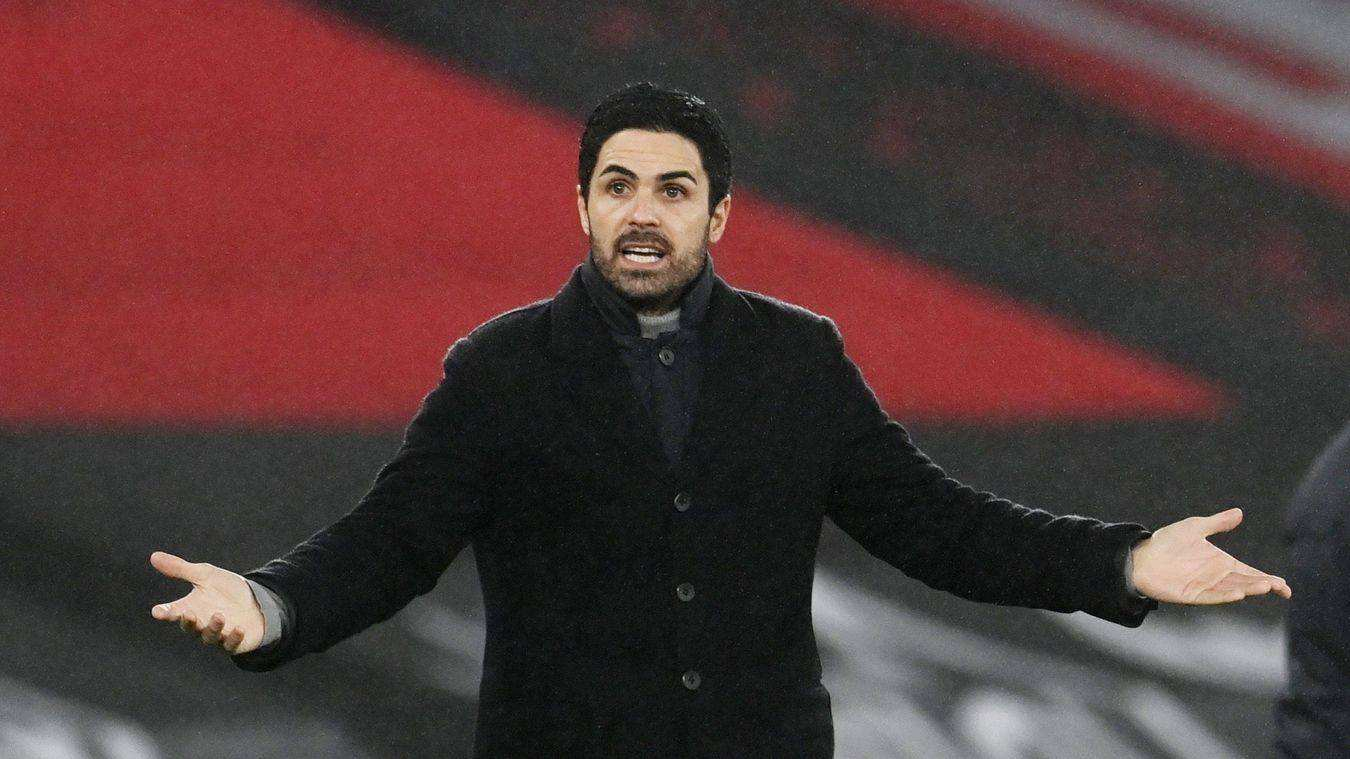no-phone: (1140, 495, 1296, 610), (143, 542, 261, 655)
